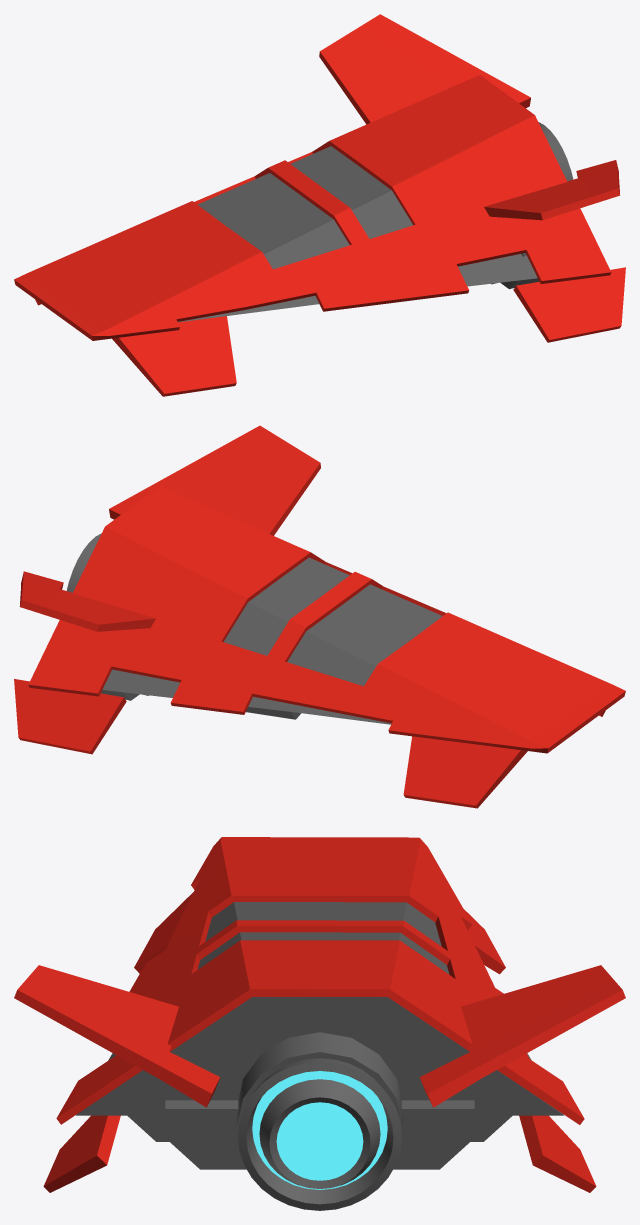
File: Nave.fbx
3 views of the same model, one above another, from view 1: azimuth 30°, elevation 25°; view 2: azimuth 150°, elevation 25°; view 3: azimuth 270°, elevation 25° (orthographic). The views are drawn at different scales.
Visible parts, largest first — view 1: Cube.003, Plano.001, Cube.015, Plano.003, Plano.008, Cube.001, Cube.013; view 2: Cube.003, Plano.001, Cube.015, Plano.003, Plano.008, Cube.001, Cube.013; view 3: Cube.003, Plano.001, Cube.001, Cubo.004, Cube.002, Cube.013, Cube.015, Plano.008, Cube.014, Cube.004, Plano.003, Cubo.005.
Boxes of the visible parts, bbox=[...] form: Cube.003: bbox=[14, 75, 611, 340]; Plano.001: bbox=[319, 14, 620, 220]; Cube.015: bbox=[197, 146, 412, 269]; Plano.003: bbox=[35, 299, 236, 396]; Plano.008: bbox=[513, 267, 625, 342]; Cube.001: bbox=[178, 254, 537, 322]; Cube.013: bbox=[538, 122, 573, 181]; Cube.003: bbox=[28, 486, 625, 753]; Plano.001: bbox=[19, 425, 320, 631]; Cube.015: bbox=[223, 557, 442, 686]; Plano.003: bbox=[403, 711, 605, 808]; Plano.008: bbox=[14, 679, 126, 754]; Cube.001: bbox=[102, 669, 391, 724]; Cube.013: bbox=[66, 533, 101, 592]; Cube.003: bbox=[56, 837, 584, 1124]; Plano.001: bbox=[14, 965, 625, 1107]; Cube.001: bbox=[76, 997, 563, 1115]; Cubo.004: bbox=[165, 1100, 474, 1169]; Cube.002: bbox=[252, 1071, 387, 1189]; Cube.013: bbox=[238, 1058, 401, 1210]; Cube.015: bbox=[197, 902, 449, 974]; Plano.008: bbox=[43, 1115, 596, 1192]; Cube.014: bbox=[259, 1079, 380, 1188]; Cube.004: bbox=[236, 1032, 403, 1133]; Plano.003: bbox=[134, 892, 505, 974]; Cubo.005: bbox=[127, 1115, 512, 1141].
Size of the model in its own units: 906 by 333 by 1132.
